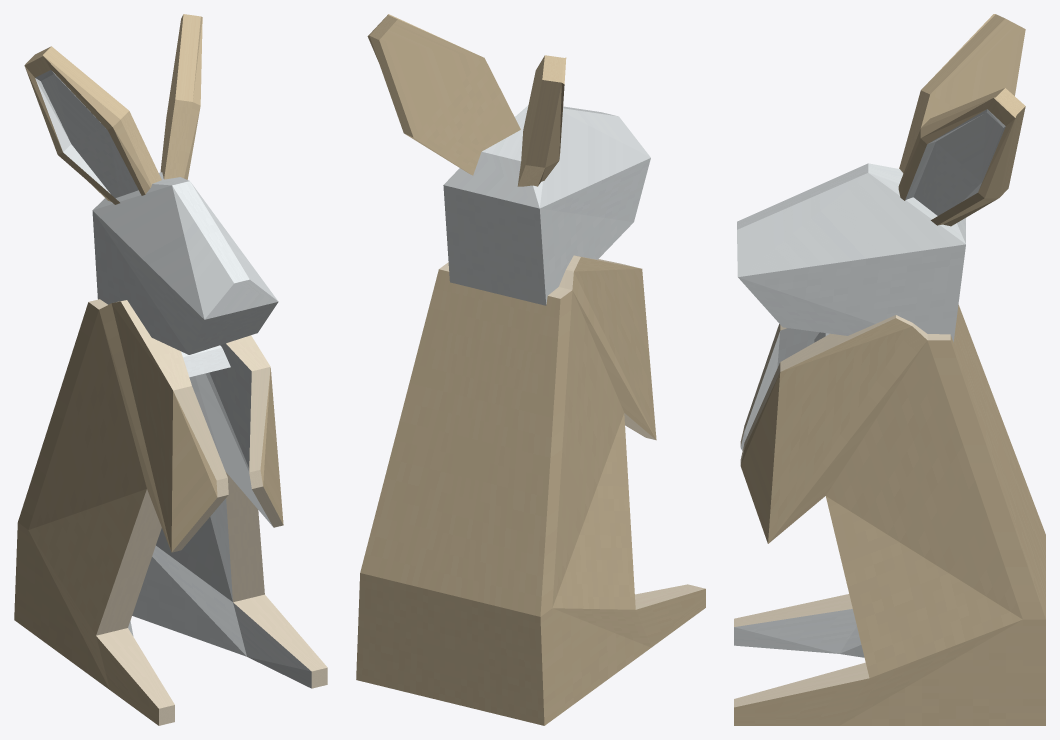
Rendered from paper_rabbit.obj.
The picture shows the model from 3 angles, left to right: view 1: azimuth 30°, elevation 25°; view 2: azimuth 150°, elevation 25°; view 3: azimuth 270°, elevation 25°; orthographic projection. The views are drawn at different scales.
Visible parts, largest first — view 1: ???.3, ???.5, ???.6, ???.4; view 2: ???.3, ???.5, ???.6; view 3: ???.3, ???.5, ???.6.
Boxes of the visible parts, <box> form: ???.3: <box>14,299,327,725</box>; ???.5: <box>92,172,278,354</box>; ???.6: <box>24,14,202,204</box>; ???.4: <box>181,345,230,377</box>; ???.3: <box>356,255,705,725</box>; ???.5: <box>443,105,650,305</box>; ???.6: <box>367,14,566,186</box>; ???.3: <box>734,304,1045,725</box>; ???.5: <box>737,163,965,342</box>; ???.6: <box>898,14,1025,226</box>.
Size of the model in its own units: 164 by 516 by 232.
